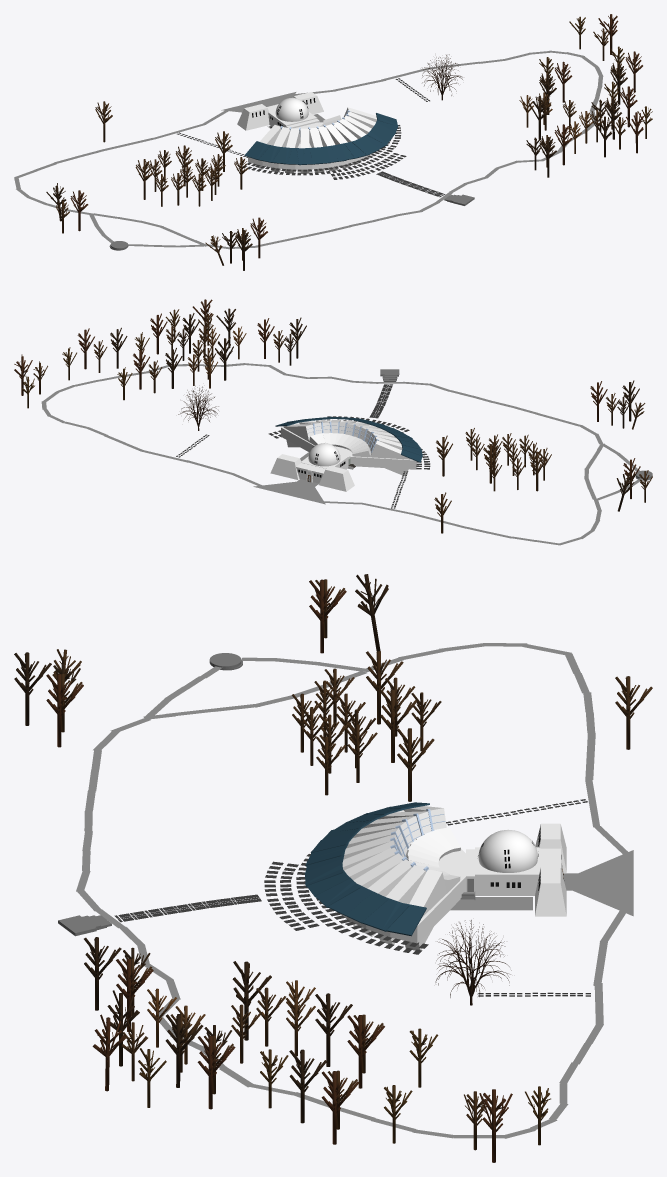
The model's file is update_museum.obj.
The picture shows the model from 3 angles, top to bottom: view 1: azimuth 30°, elevation 25°; view 2: azimuth 150°, elevation 25°; view 3: azimuth 270°, elevation 25°; orthographic projection. The views are drawn at different scales.
Visible parts, largest first — view 1: Plane.001, Cube.047, Cube.033, Plane.131, syningarsalur, Sphere, h_hlid, tree; view 2: Plane.001, Cube.033, syningarsalur, Cube.047, h_hlid, Sphere, tree, v_hlid, Plane.131; view 3: Plane.001, Cube.033, Cube.047, Plane.131, Sphere, syningarsalur, tree, innanhus, v_hlid, Plane.067.
Boxes of the visible parts, <box> form: Plane.001: <box>14,50,603,250</box>; Cube.047: <box>244,113,398,165</box>; Cube.033: <box>255,107,376,173</box>; Plane.131: <box>242,125,406,179</box>; syningarsalur: <box>248,122,373,169</box>; Sphere: <box>275,98,308,121</box>; h_hlid: <box>237,104,269,130</box>; tree: <box>422,54,462,100</box>; Plane.001: <box>41,363,650,545</box>; Cube.033: <box>283,420,411,476</box>; syningarsalur: <box>281,420,416,469</box>; Cube.047: <box>275,416,422,462</box>; h_hlid: <box>319,466,354,491</box>; Sphere: <box>308,443,340,466</box>; tree: <box>178,386,218,430</box>; v_hlid: <box>270,454,301,479</box>; Plane.131: <box>268,416,430,469</box>; Plane.001: <box>58,643,633,1138</box>; Cube.033: <box>342,806,460,950</box>; Cube.047: <box>304,802,429,936</box>; Plane.131: <box>264,850,428,954</box>; Sphere: <box>478,829,537,872</box>; syningarsalur: <box>341,810,465,943</box>; tree: <box>435,920,511,1005</box>; innanhus: <box>475,847,540,895</box>; v_hlid: <box>535,867,566,916</box>; Plane.067: <box>114,894,261,922</box>.
Bounding box in the file's own units: 160 × 14.08 × 80.33.
